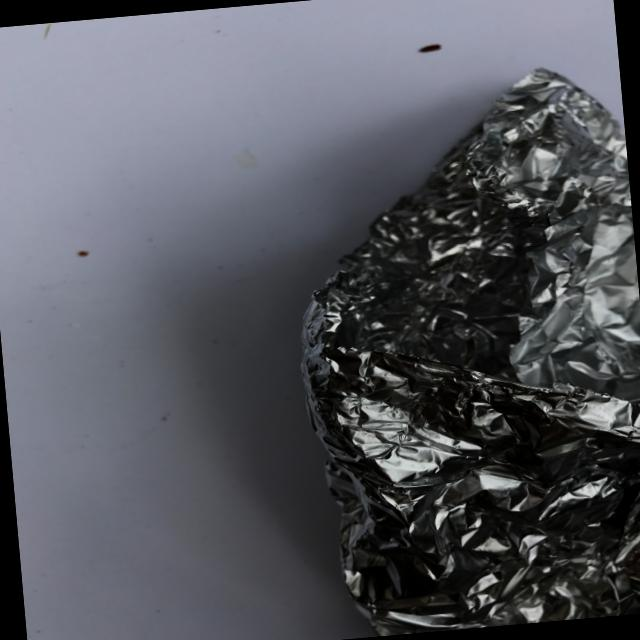Metal: (239, 44, 640, 640)
